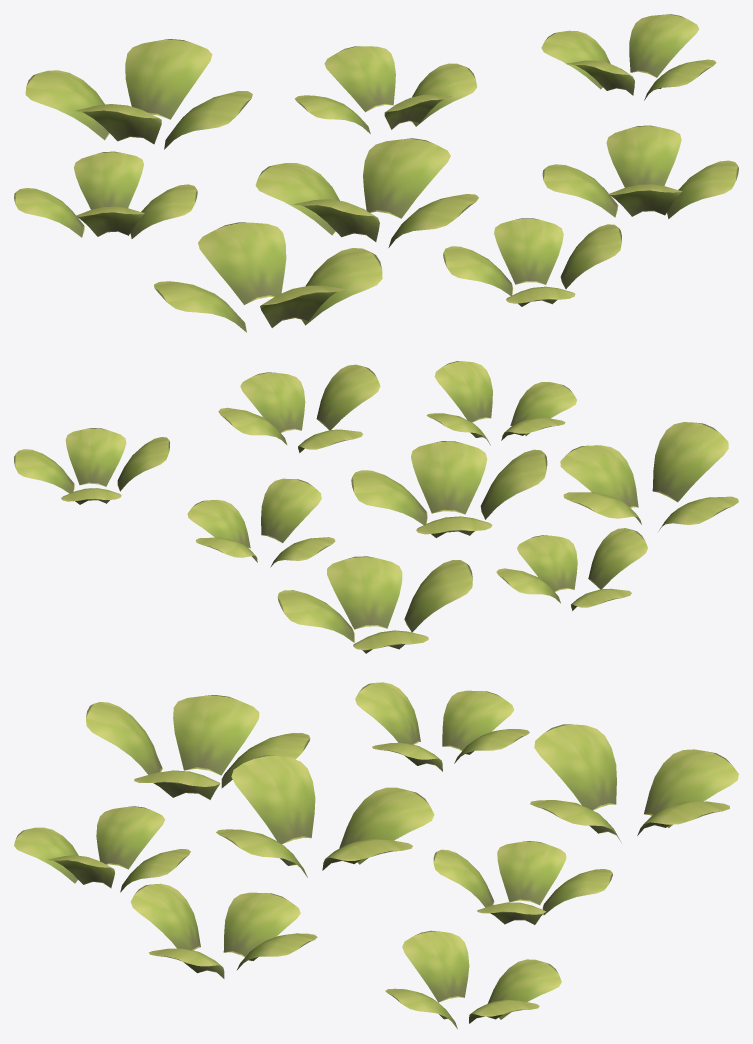
The model's file is clover.fbx.
3 views of the same model, one above another, from view 1: azimuth 30°, elevation 25°; view 2: azimuth 150°, elevation 25°; view 3: azimuth 270°, elevation 25° (orthographic). The views are drawn at different scales.
Parts seen in each view (by area): view 1: BezierCurve.010; view 2: BezierCurve.010; view 3: BezierCurve.010.
Part boxes in pixels (x1,y1,x2,y2): BezierCurve.010: (14,14,738,332); BezierCurve.010: (14,361,738,653); BezierCurve.010: (14,682,738,1029).
Size of the model in its own units: 71.52 by 7.17 by 65.74.
